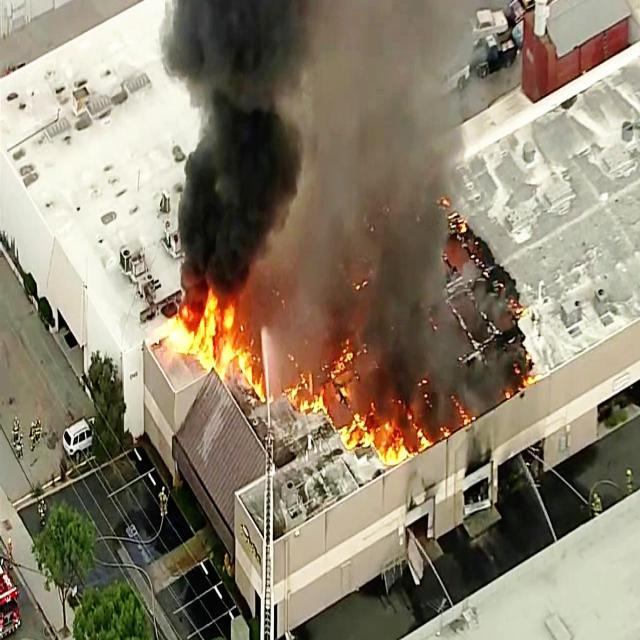Fire: (184, 292, 410, 465)
Smoke: (170, 7, 480, 288), (416, 296, 520, 450)
